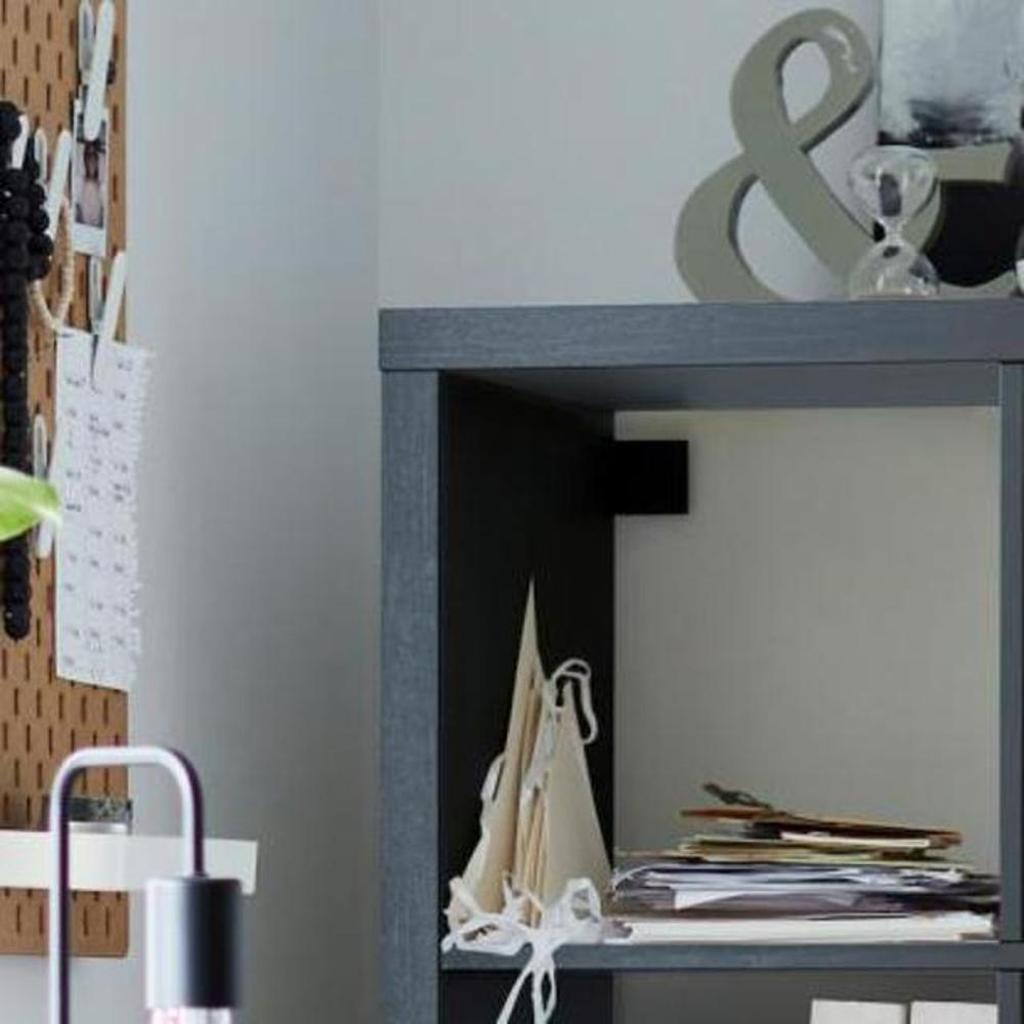lamp: (372, 299, 1022, 1023)
